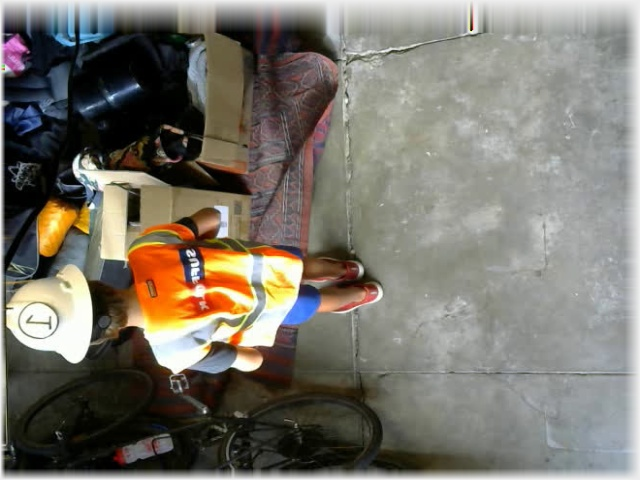one: (17, 302, 58, 338)
